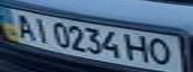0: (48, 19, 72, 48)
2: (66, 24, 87, 53)
3: (81, 26, 106, 56)
4: (100, 29, 124, 61)
A: (6, 11, 39, 40)
H: (124, 33, 151, 63)
I: (27, 16, 54, 44)
O: (145, 36, 178, 68)
